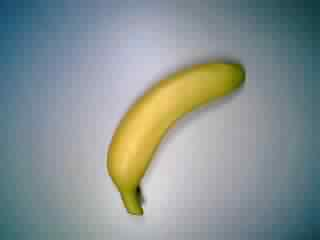banana: (104, 59, 252, 217)
